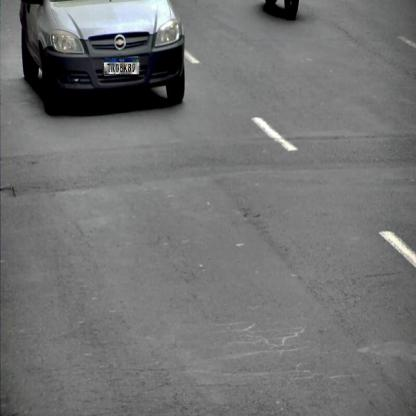PlacaM: (103, 57, 140, 75)
